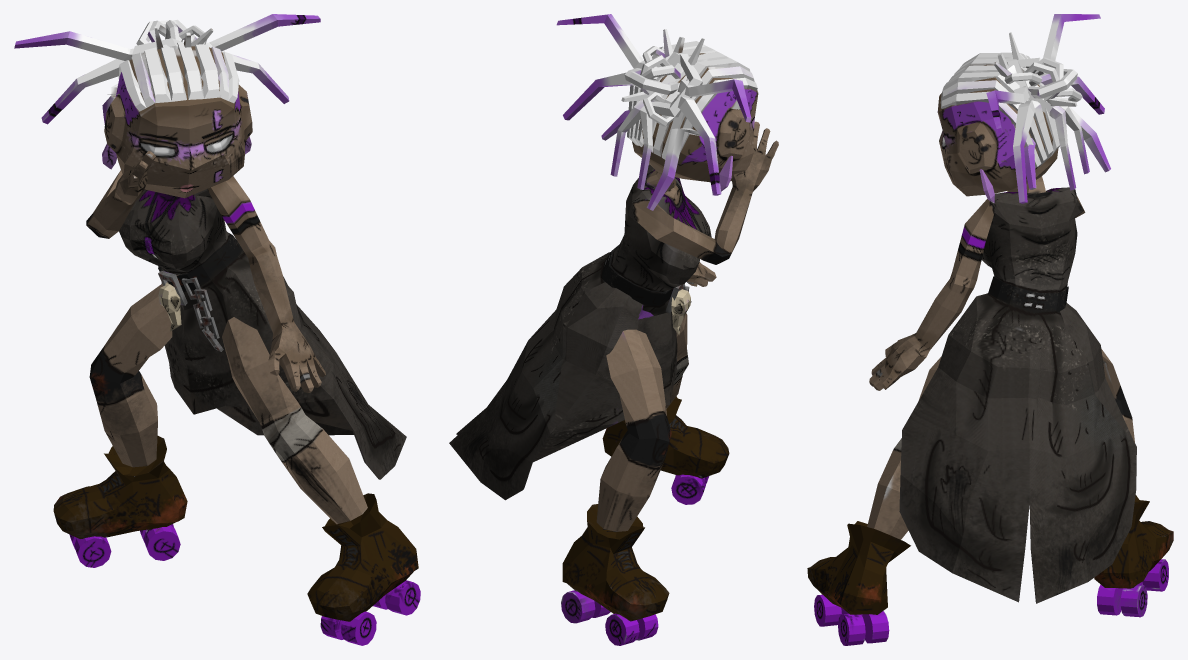
Rendered from bruja_000001.obj.
The picture shows the model from 3 angles, left to right: view 1: azimuth 30°, elevation 25°; view 2: azimuth 150°, elevation 25°; view 3: azimuth 270°, elevation 25°; orthographic projection. The views are drawn at different scales.
Visible parts, largest first — view 1: Bruja_Plane.001; view 2: Bruja_Plane.001; view 3: Bruja_Plane.001.
Boxes of the visible parts, left/top/right/bottom form: Bruja_Plane.001: left=14, top=14, right=420, bottom=645; Bruja_Plane.001: left=449, top=14, right=778, bottom=645; Bruja_Plane.001: left=807, top=14, right=1173, bottom=645.
Bounding box in the file's own units: 9.74 × 15.49 × 9.25.
